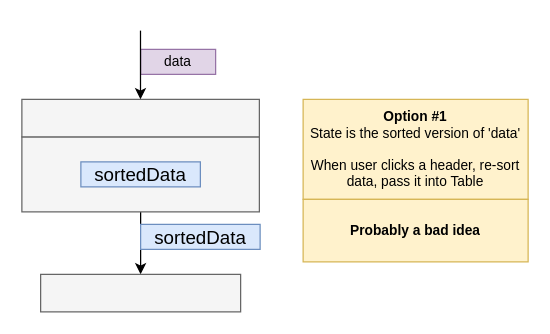
This 550x334 diagram has some shape labels left out. Each missing label, with the box of its shape:
SortableTable: (21, 98, 259, 137)
Table: (39, 273, 241, 312)
